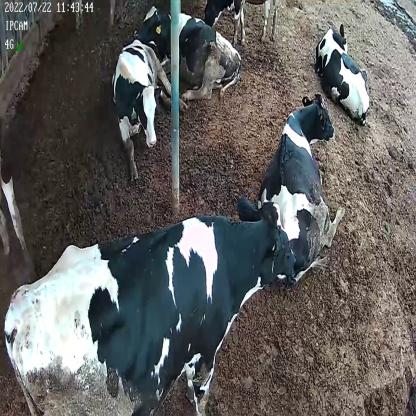cow: (4, 185, 298, 416), (255, 89, 348, 284), (133, 6, 243, 104), (112, 37, 185, 175), (312, 18, 372, 126)
